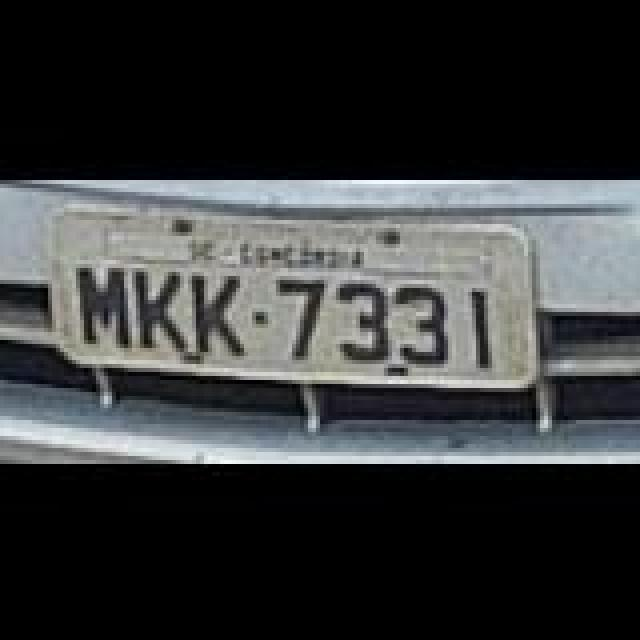1: (470, 288, 498, 368)
3: (396, 280, 452, 360), (338, 278, 390, 362)
7: (278, 276, 330, 356)
K: (192, 270, 248, 354), (138, 266, 190, 350)
M: (76, 262, 132, 346)
